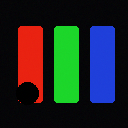2 circle: (16, 82, 38, 104)
